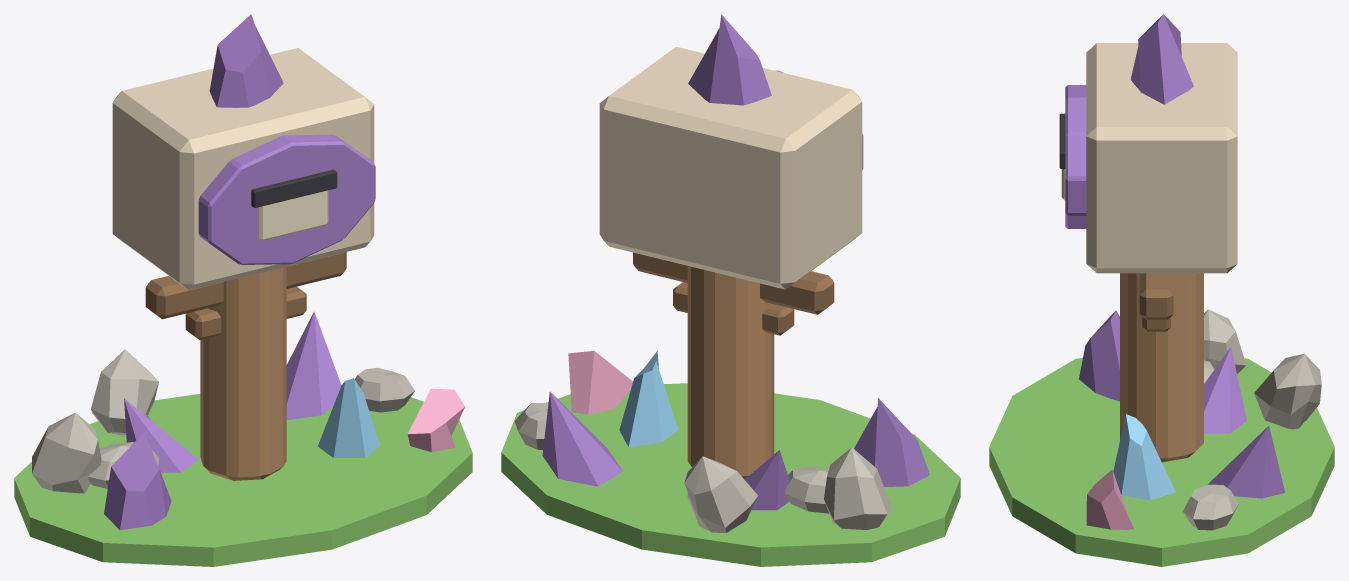
3 views of the same model, side by side, from view 1: azimuth 30°, elevation 25°; view 2: azimuth 150°, elevation 25°; view 3: azimuth 270°, elevation 25° (orthographic). The views are drawn at different scales.
Visible parts, largest first — view 1: round grass base, cream crystal mailbox body, short rounded wooden post, bold purple front gem frame, clear base crystal-0.58 bottom.001, clear base crystal-0.58 bottom, cristal.001, clear base crystal-0.58 top.001, chunky cross support, cristal, clear base crystal0.58 bottom, clear base crystal0.36 bottom (+6 smaller); view 2: cream crystal mailbox body, round grass base, short rounded wooden post, clear base crystal-0.58 bottom.001, clear base crystal-0.58 top.001, cristal.001, cristal, clear base crystal-0.58 bottom, clear base crystal0.58 bottom, chunky cross support, clear base crystal0.36 bottom, clear base crystal-0.58 top (+3 smaller); view 3: round grass base, cream crystal mailbox body, short rounded wooden post, clear base crystal-0.58 bottom.001, cristal, clear base crystal0.58 bottom, bold purple front gem frame, clear base crystal-0.58 top.001, clear base crystal-0.58 top, clear base crystal-0.58 bottom, small rock.001, clear base crystal0.36 bottom (+2 smaller).
Boxes of the visible parts, x1,y1,x2,y2 form: round grass base: [14, 394, 472, 566]; cream crystal mailbox body: [112, 48, 374, 290]; short rounded wooden post: [200, 266, 286, 480]; bold purple front gem frame: [198, 134, 375, 264]; clear base crystal-0.58 bottom.001: [209, 14, 283, 107]; clear base crystal-0.58 bottom: [104, 433, 171, 530]; cristal.001: [32, 412, 101, 493]; clear base crystal-0.58 top.001: [286, 311, 341, 420]; chunky cross support: [145, 252, 346, 319]; cristal: [91, 349, 158, 435]; clear base crystal0.58 bottom: [317, 378, 379, 457]; clear base crystal0.36 bottom: [407, 388, 464, 452]; cream crystal mailbox body: [599, 46, 862, 289]; round grass base: [501, 383, 960, 566]; short rounded wooden post: [687, 266, 774, 479]; clear base crystal-0.58 bottom.001: [688, 14, 771, 105]; clear base crystal-0.58 top.001: [542, 391, 622, 486]; cristal.001: [824, 447, 891, 529]; cristal: [684, 456, 757, 532]; clear base crystal-0.58 bottom: [854, 398, 929, 486]; clear base crystal0.58 bottom: [619, 351, 678, 446]; chunky cross support: [633, 252, 834, 314]; clear base crystal0.36 bottom: [568, 351, 632, 414]; clear base crystal-0.58 top: [744, 450, 789, 510]; round grass base: [989, 357, 1334, 566]; cream crystal mailbox body: [1086, 43, 1237, 273]; short rounded wooden post: [1120, 273, 1203, 462]; clear base crystal-0.58 bottom.001: [1131, 14, 1193, 104]; cristal: [1254, 353, 1321, 429]; clear base crystal0.58 bottom: [1113, 414, 1175, 500]; bold purple front gem frame: [1065, 85, 1086, 228]; clear base crystal-0.58 top.001: [1207, 426, 1285, 498]; clear base crystal-0.58 top: [1204, 347, 1246, 433]; clear base crystal-0.58 bottom: [1079, 310, 1119, 401]; small rock.001: [1182, 484, 1238, 530]; clear base crystal0.36 bottom: [1086, 469, 1134, 529].
Bounding box in the file's own units: 1.84 × 1.93 × 1.32.
